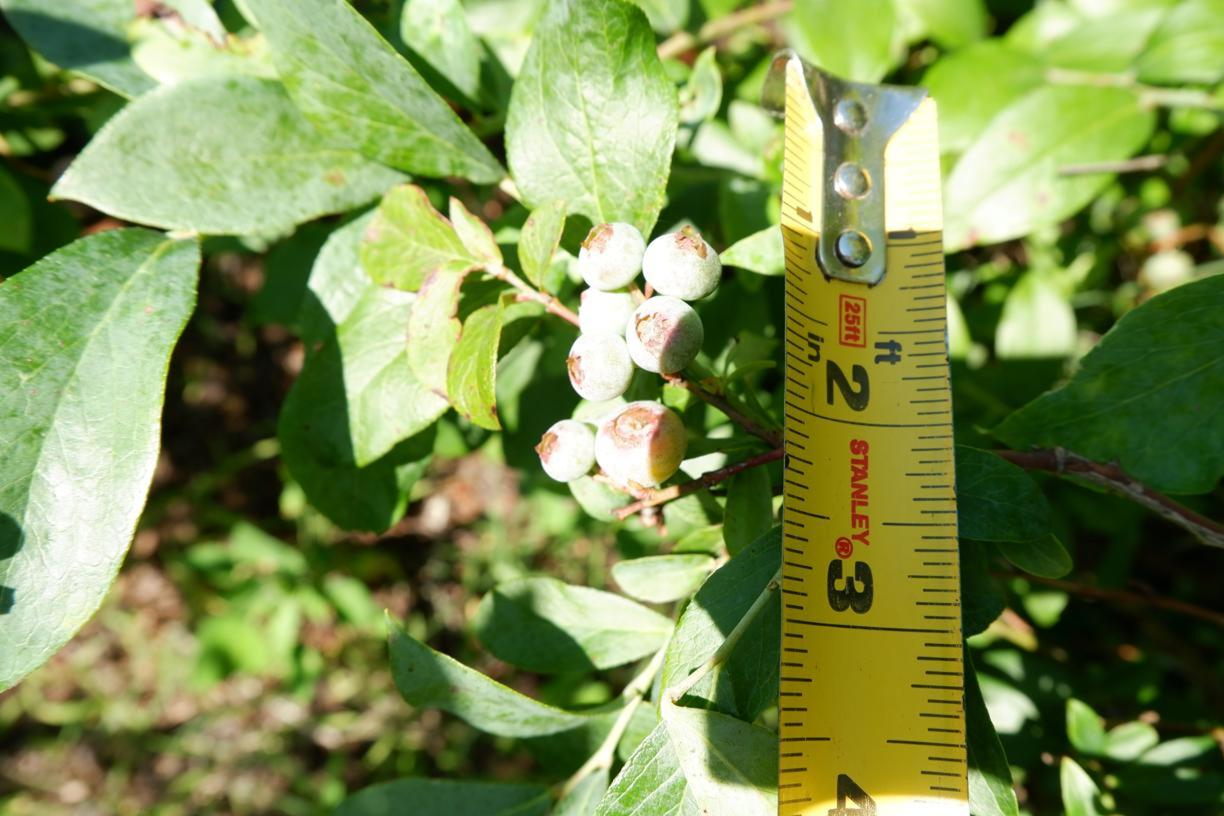Immature: (595, 400, 689, 488), (642, 225, 721, 301), (626, 296, 704, 372), (566, 332, 633, 401), (579, 222, 647, 289), (533, 419, 595, 482), (579, 286, 636, 336)
